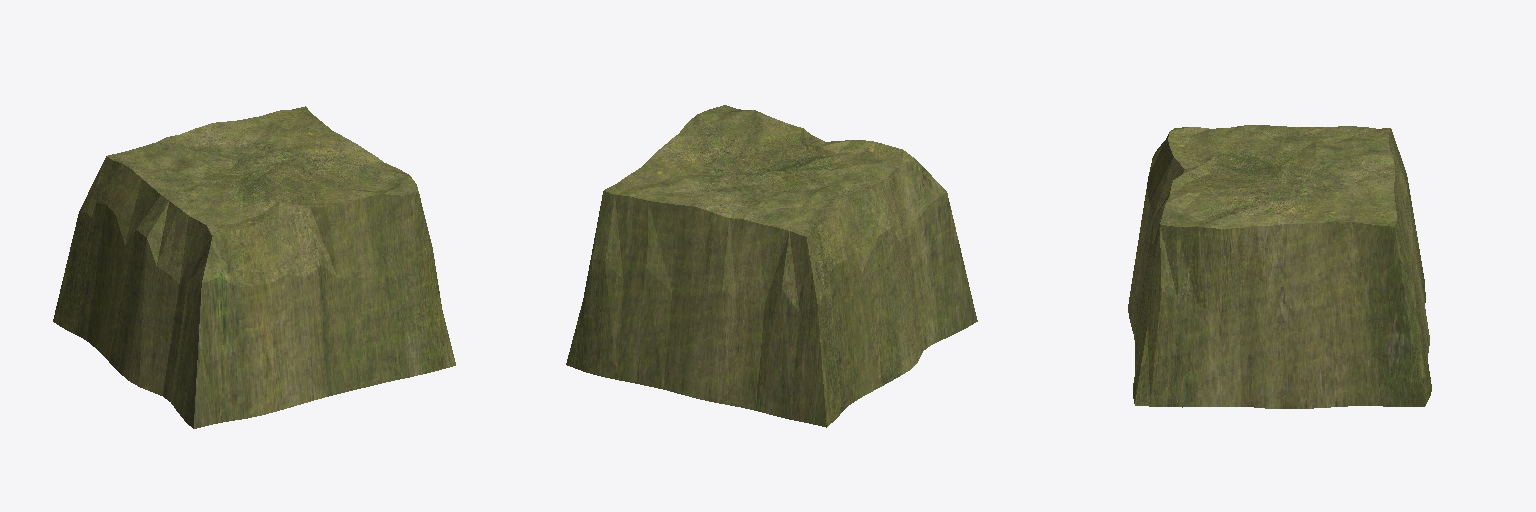
The picture shows the model from 3 angles: view 1: azimuth 30°, elevation 25°; view 2: azimuth 150°, elevation 25°; view 3: azimuth 270°, elevation 25°; orthographic projection.
Visible parts, largest first — view 1: Plane; view 2: Plane; view 3: Plane.
Part boxes in pixels (bbox=[...]): Plane: bbox=[53, 106, 455, 428]; Plane: bbox=[566, 105, 977, 427]; Plane: bbox=[1128, 125, 1431, 408].
Bounding box in the file's own units: 41.99 × 25.84 × 40.67.
1 materials, 1 textured.